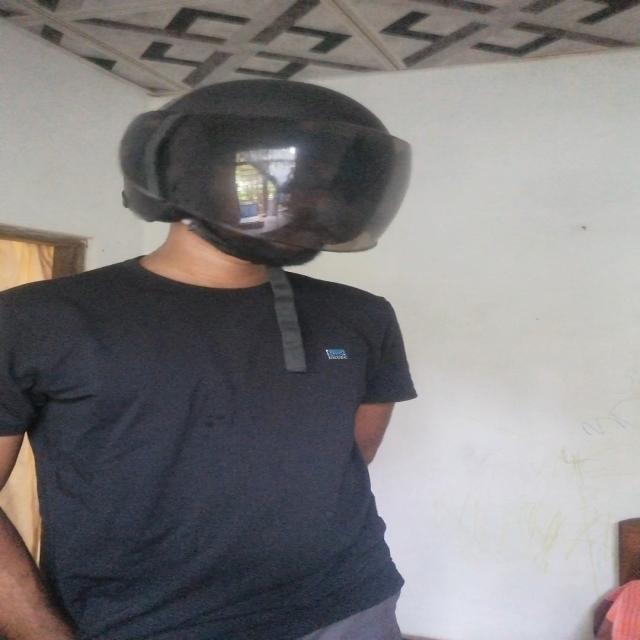Helmet_Wearer: (109, 78, 448, 304)
Person: (6, 74, 434, 640)
